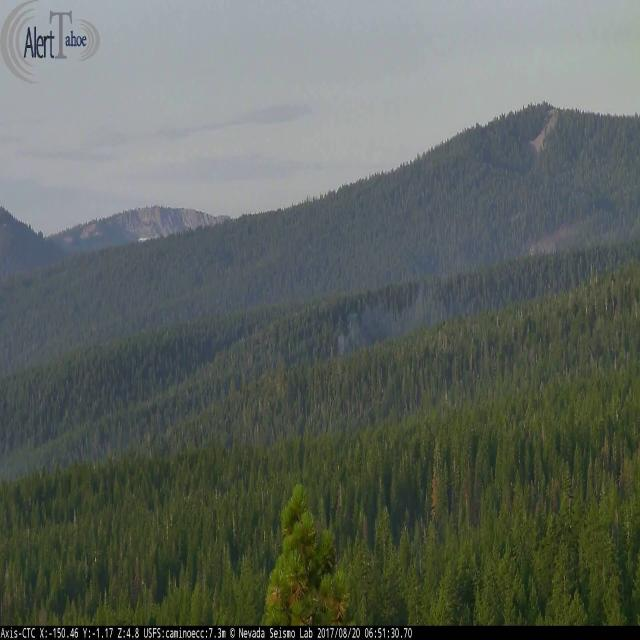smoke: (338, 270, 452, 354)
